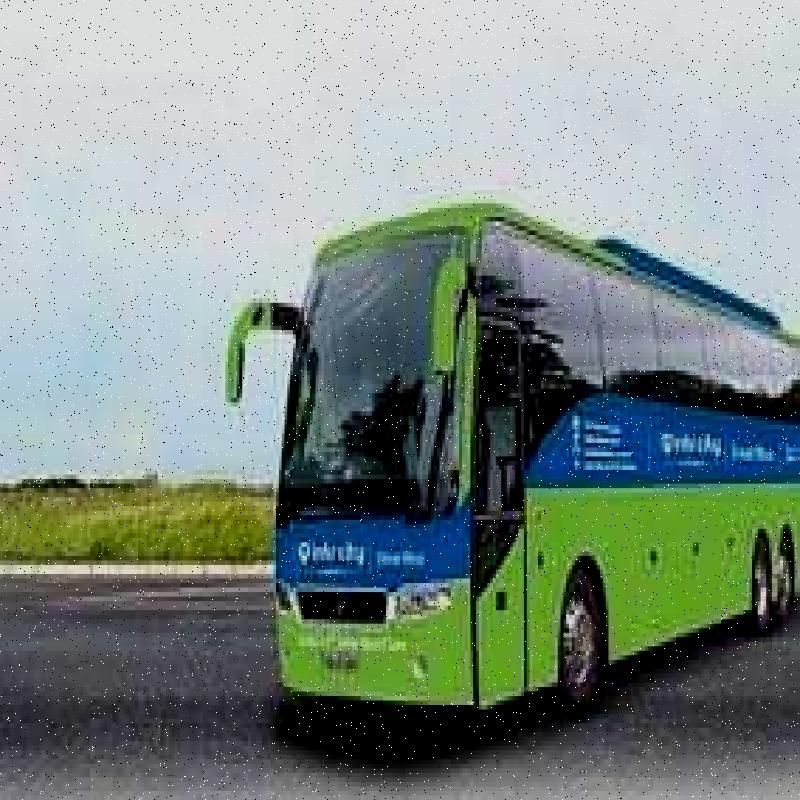bus: (247, 160, 800, 715)
